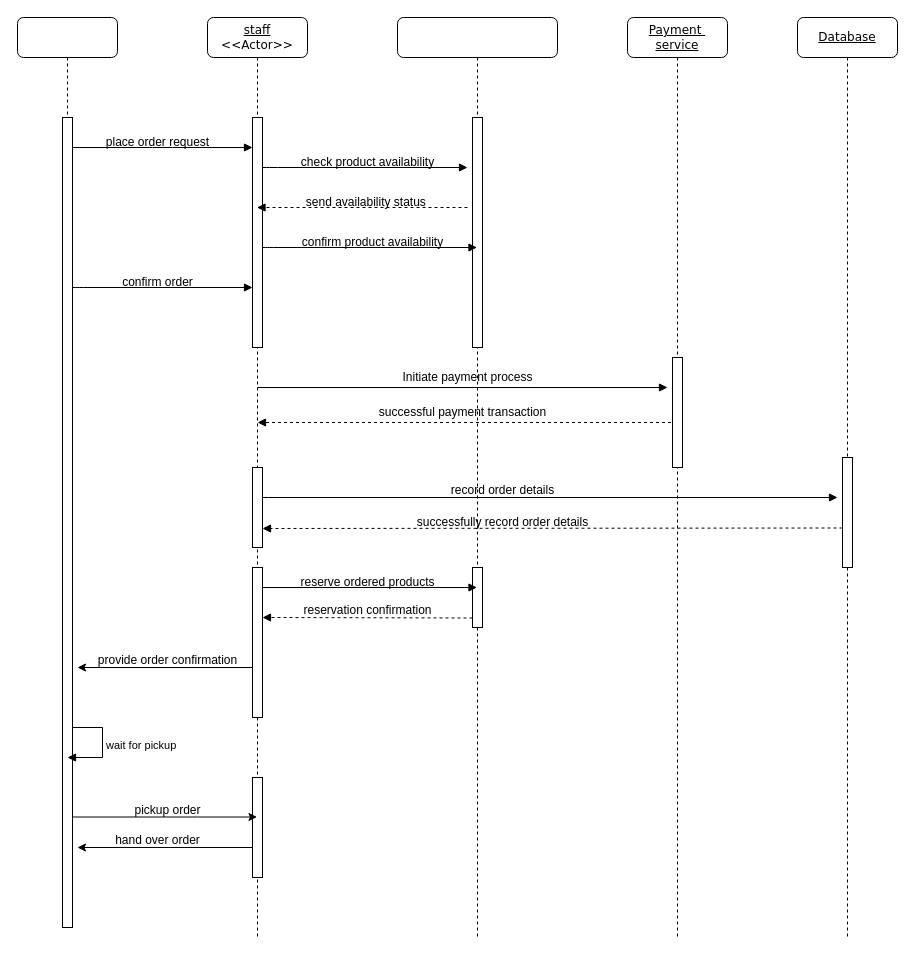
The diagram is 915 pixels wide and 955 high, and some of its shapes have lost their labels. The shapes that lost their labels are listed below. From the top down, each one's box as (x1, y1, x2, y2) in pixels, then its label:
(16, 16, 118, 928): Direct customer <<Actor>>
(396, 16, 558, 938): Inventory system
